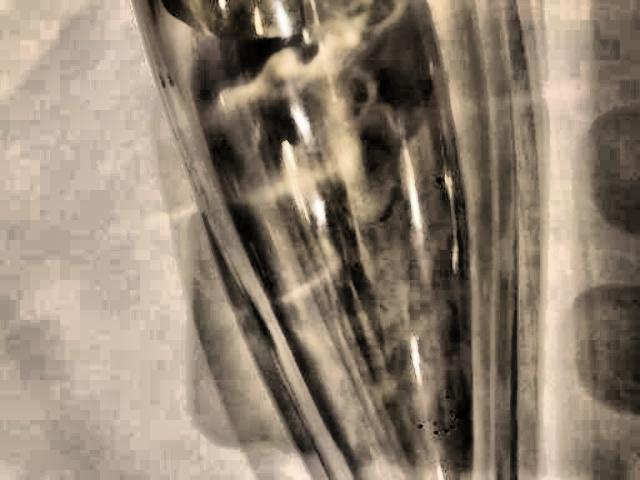Bottles: (115, 0, 533, 480)
